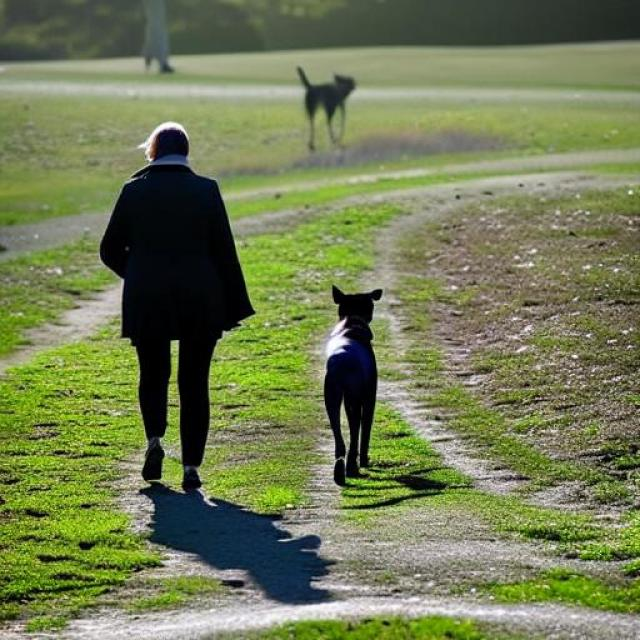Dog: (296, 66, 356, 150)
Unleashed_Dog: (130, 282, 382, 493)
